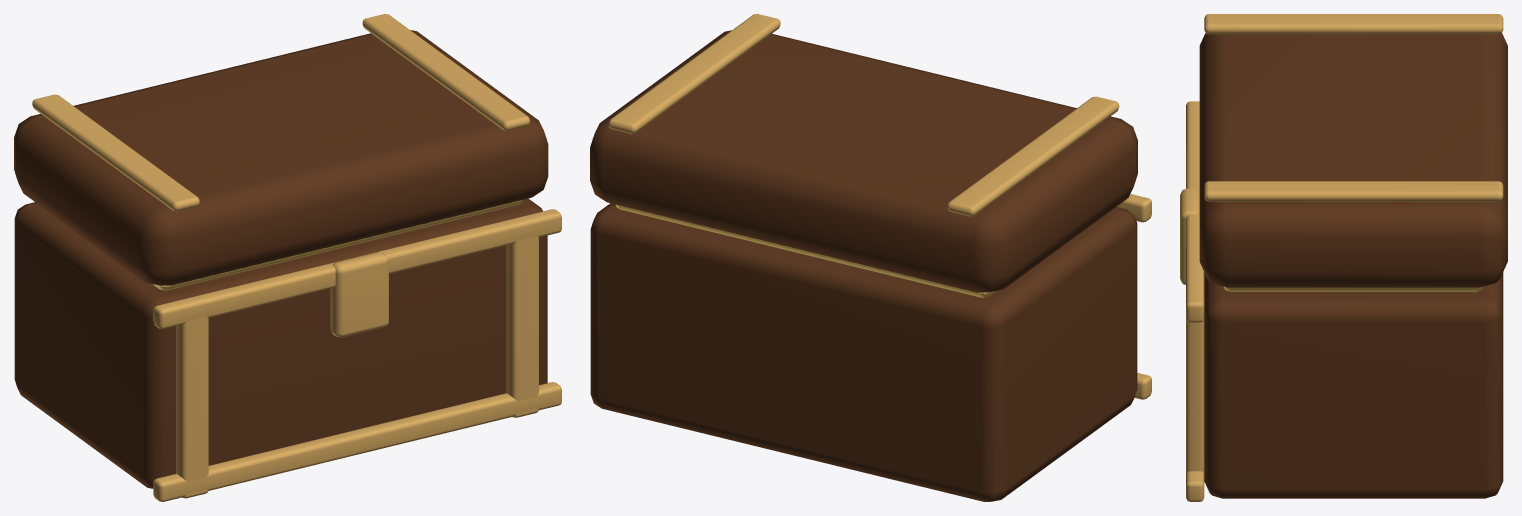
File: treasure-chest.glb
3 views of the same model, side by side, from view 1: azimuth 30°, elevation 25°; view 2: azimuth 150°, elevation 25°; view 3: azimuth 270°, elevation 25° (orthographic). The views are drawn at different scales.
Visible parts, largest first — view 1: Lid, Chest body, Chest rim, Chest rim.001, Chest vertical band, Chest vertical band.001, Lid band, Lid band.001, Chest clasp, Chest gold lining; view 2: Chest body, Lid, Lid band, Lid band.001, Chest gold lining, Chest rim.001; view 3: Lid, Chest body, Lid band.001, Lid band, Chest rim.001, Chest vertical band.001, Chest gold lining, Chest clasp, Chest rim.
Part boxes in pixels (x1,y1,x2,y2): Lid: (14, 30, 548, 285); Chest body: (14, 198, 547, 488); Chest rim: (153, 382, 561, 501); Chest rim.001: (153, 209, 561, 329); Chest vertical band: (176, 307, 208, 498); Chest vertical band.001: (506, 234, 538, 417); Lid band: (32, 94, 199, 211); Lid band.001: (362, 14, 529, 130); Chest clasp: (330, 252, 388, 337); Chest gold lining: (153, 200, 522, 290); Chest body: (590, 203, 1137, 501); Lid: (590, 30, 1137, 292); Lid band: (947, 96, 1119, 216); Lid band.001: (608, 14, 780, 133); Chest gold lining: (616, 204, 995, 297); Chest rim.001: (1117, 194, 1151, 222); Lid: (1199, 33, 1507, 287); Chest body: (1204, 272, 1503, 498); Lid band.001: (1204, 181, 1503, 201); Lid band: (1204, 14, 1503, 34); Chest rim.001: (1186, 101, 1204, 322); Chest vertical band.001: (1186, 319, 1204, 472); Chest gold lining: (1224, 286, 1483, 291); Chest clasp: (1180, 188, 1198, 284); Chest rim: (1186, 471, 1204, 501).
Bounding box in the file's own units: 1.06 × 0.7225 × 0.7125.
